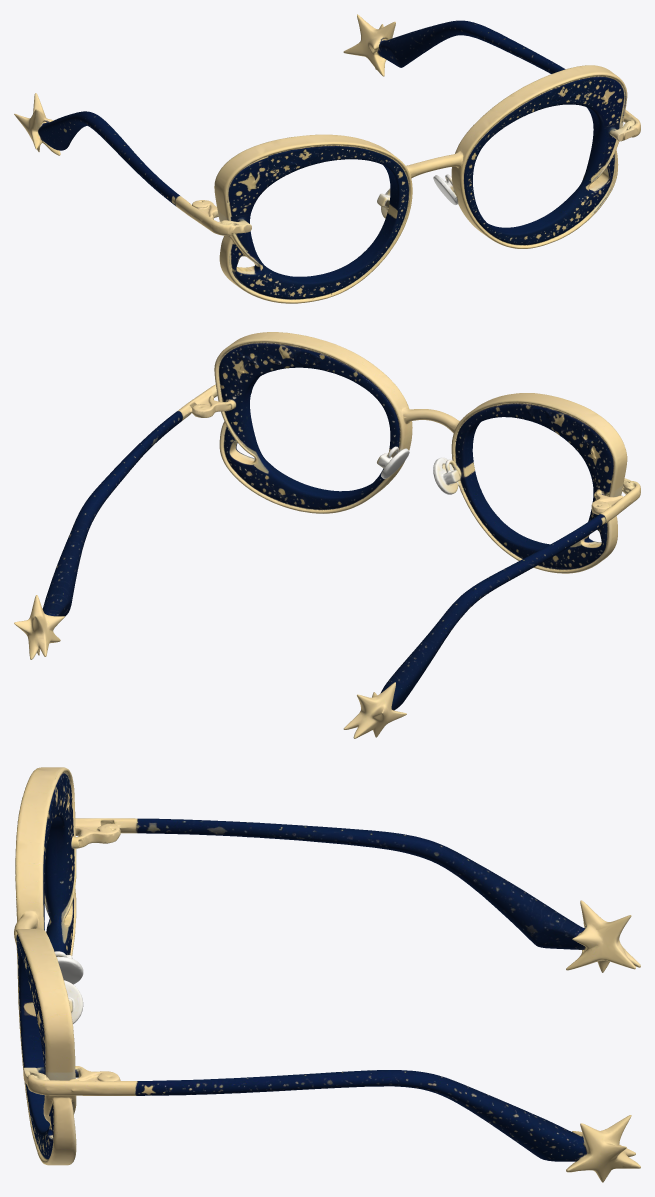
Rendered from Celestial.glb.
3 views of the same model, one above another, from view 1: azimuth 30°, elevation 25°; view 2: azimuth 150°, elevation 25°; view 3: azimuth 270°, elevation 25° (orthographic). The views are drawn at different scales.
Size of the model in its own units: 1.9 by 0.6926 by 1.88.
1 material, 1 textured.
